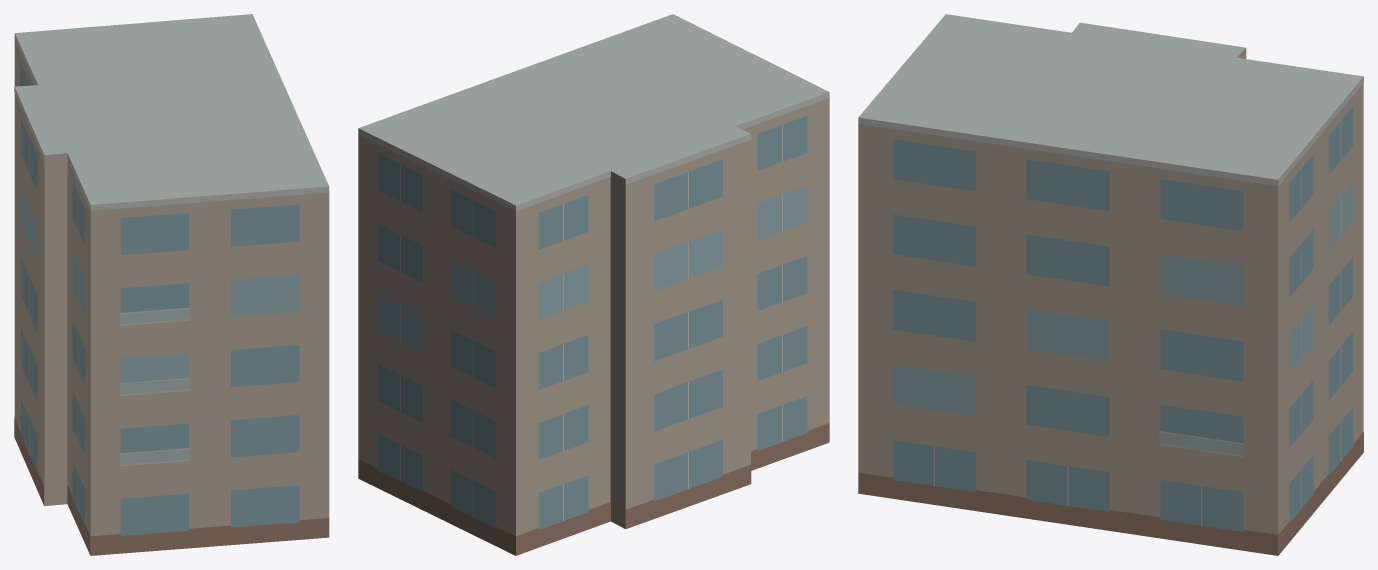
File: survey-upis-32886805.glb
The picture shows the model from 3 angles, left to right: view 1: azimuth 30°, elevation 25°; view 2: azimuth 150°, elevation 25°; view 3: azimuth 270°, elevation 25°; orthographic projection. The views are drawn at different scales.
Parts seen in each view (by area): view 1: survey-upis-32886805.tmp; view 2: survey-upis-32886805.tmp; view 3: survey-upis-32886805.tmp.
Boxes of the visible parts, x1,y1,x2,y2 form: survey-upis-32886805.tmp: (14, 14, 329, 555); survey-upis-32886805.tmp: (358, 14, 829, 555); survey-upis-32886805.tmp: (858, 14, 1363, 555).
Bounding box in the file's own units: 13.72 × 14.5 × 17.68.
